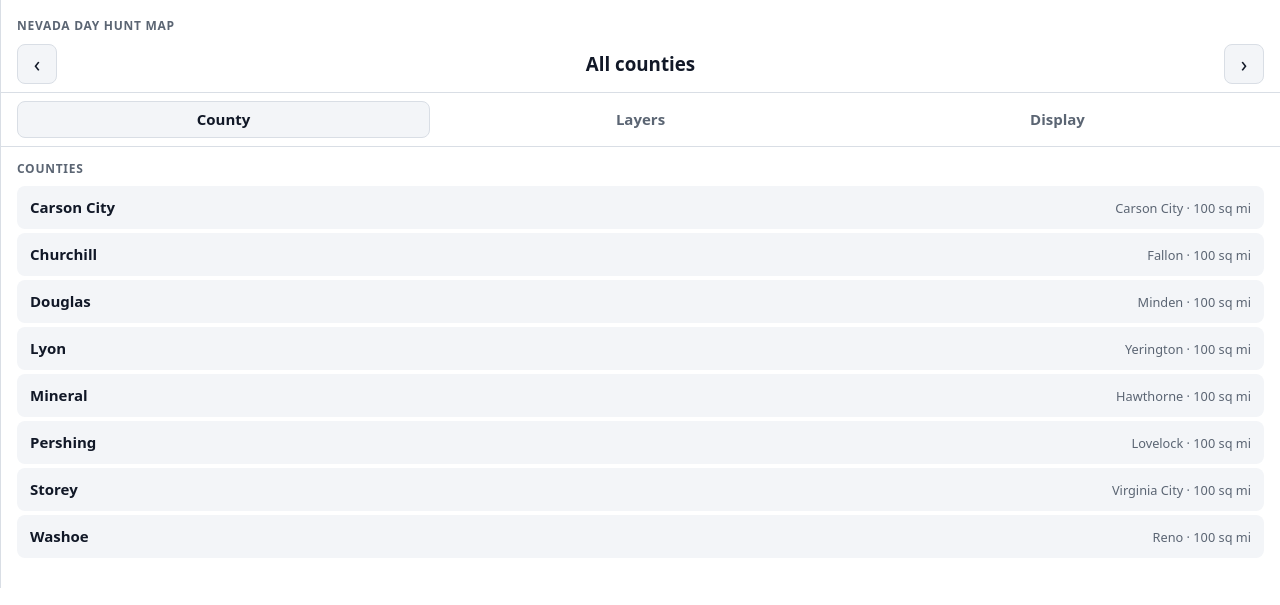
SidePanel › says so when a county has no layer data yet
Click the button "Mineral Hawthorne · 100 sq mi". click: (59,395)
box: [17,374,1264,417]
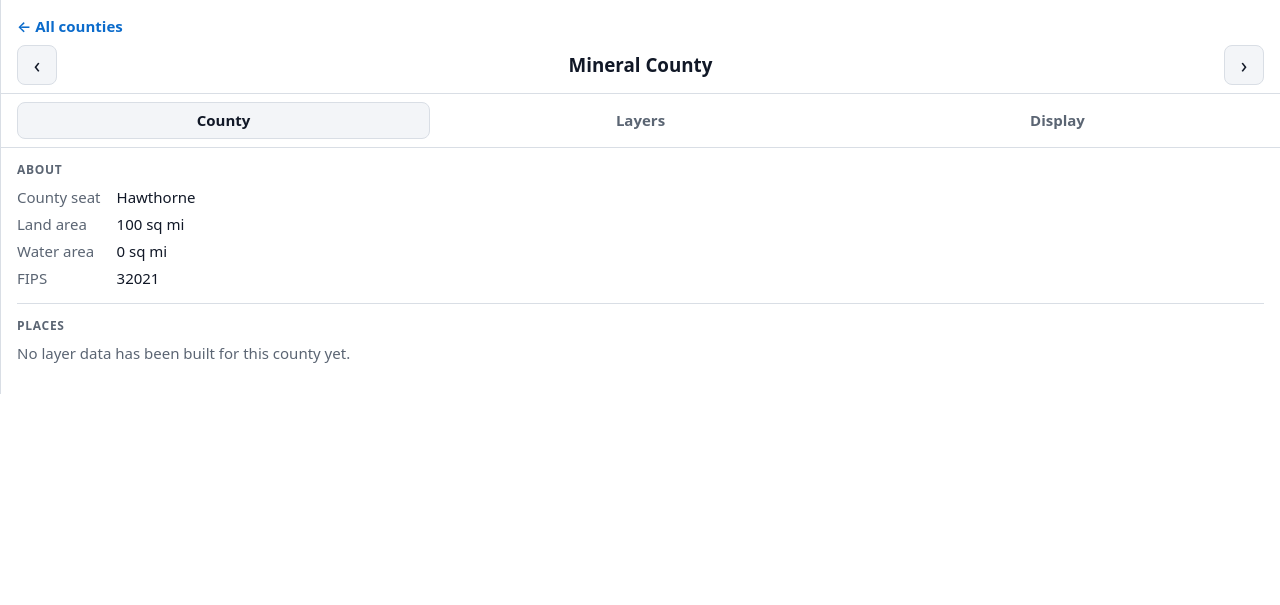
Expected: the text "No layer data has been built for this county yet." is shown, [17,343,350,363]
